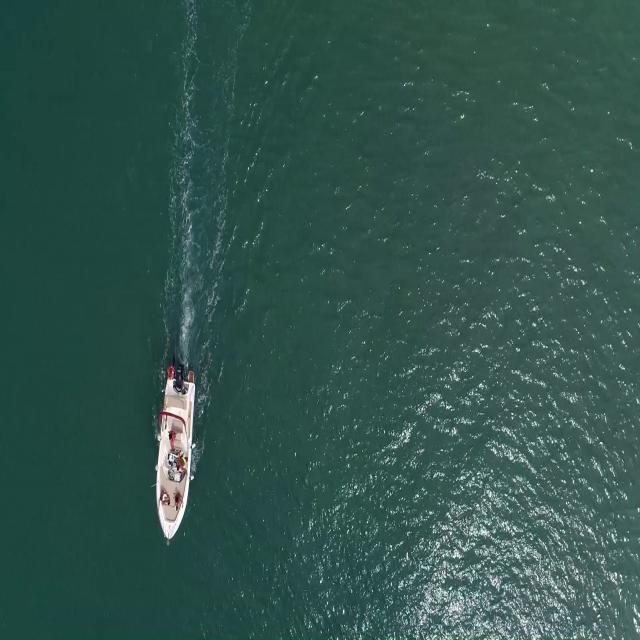boat: (153, 372, 196, 546)
life_buoy: (166, 366, 175, 379)
person: (176, 455, 191, 478), (157, 489, 170, 514), (166, 427, 176, 451), (173, 494, 183, 512)
